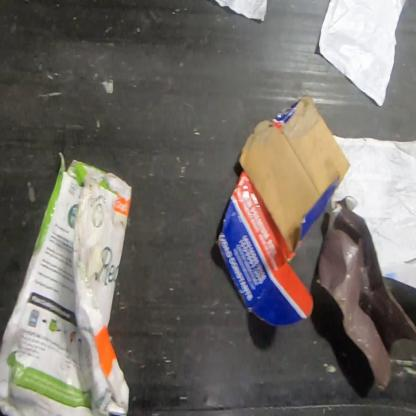cardboard: (0, 150, 133, 416), (214, 91, 352, 328), (314, 195, 415, 394)
